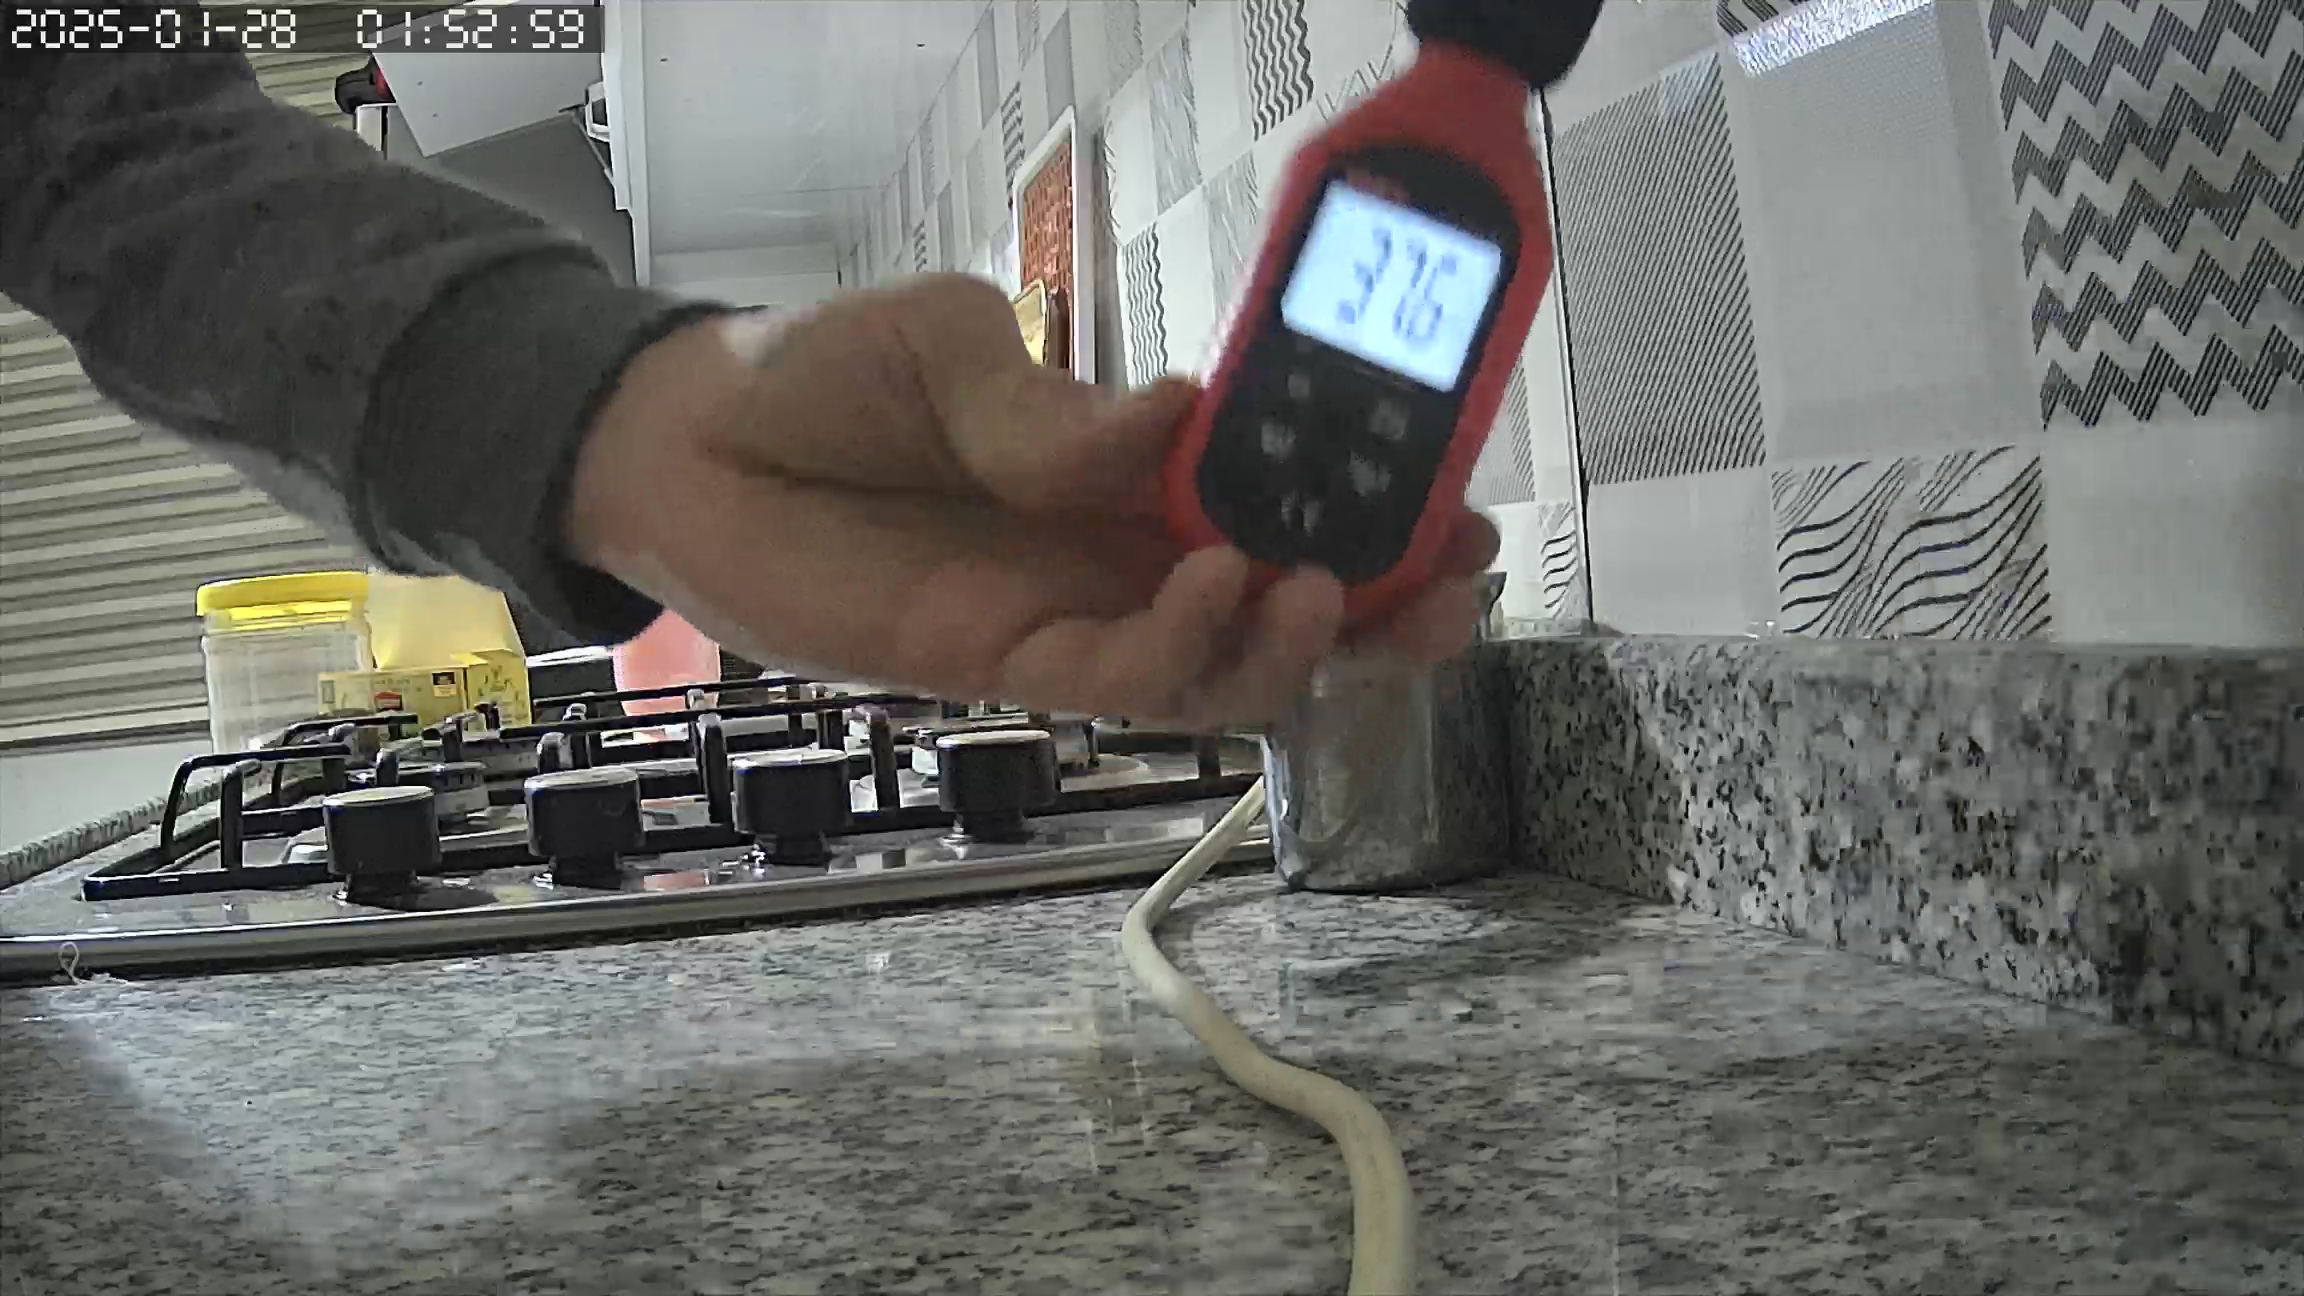screen: (1274, 177, 1500, 394)
